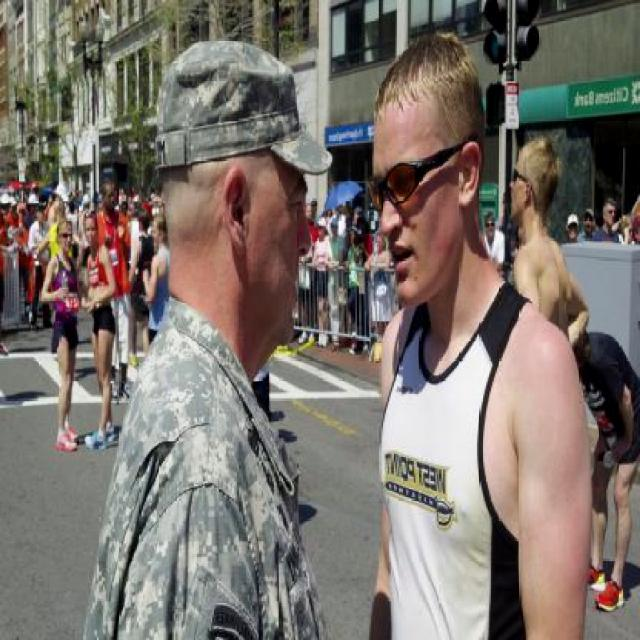face_nomask: (365, 160, 437, 289), (267, 188, 321, 330)
glasses: (370, 155, 432, 211)
head_nohelmet: (152, 45, 330, 177), (373, 43, 478, 123), (516, 132, 564, 182), (79, 209, 101, 228), (56, 220, 75, 231)
person: (348, 52, 590, 640), (109, 54, 337, 640), (48, 218, 81, 458), (85, 214, 108, 452)
